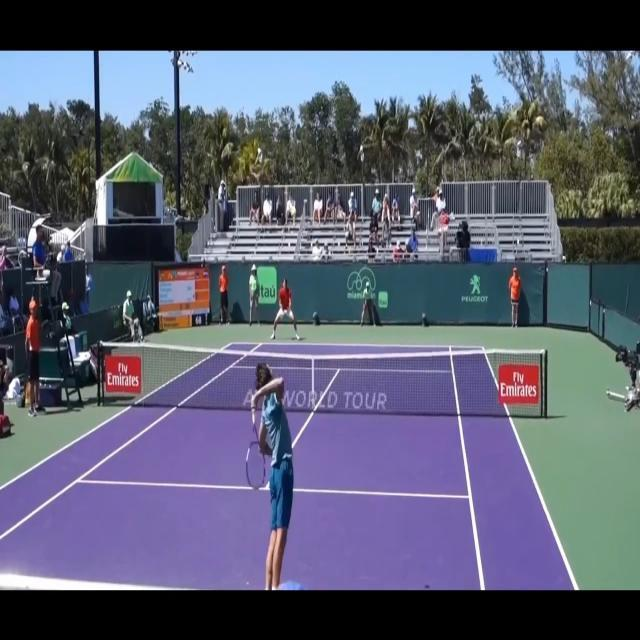court: (0, 342, 580, 590)
net: (96, 342, 550, 419)
player: (244, 360, 296, 590)
